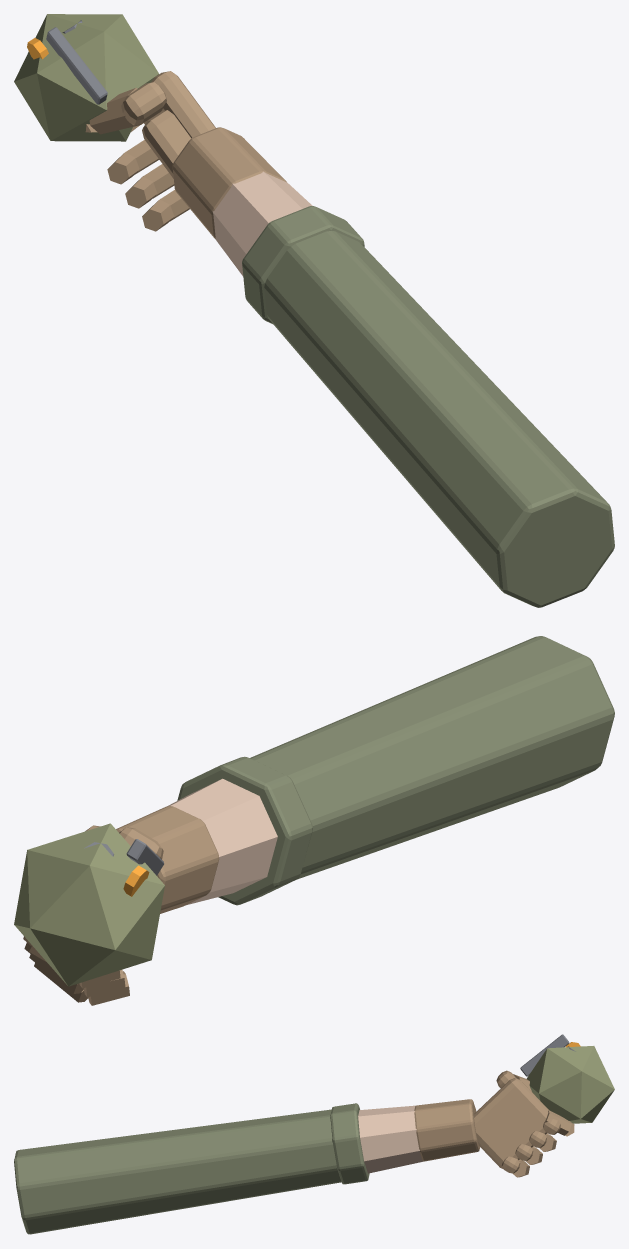
The model's file is viewmodel_grenade.glb.
3 views of the same model, one above another, from view 1: azimuth 30°, elevation 25°; view 2: azimuth 150°, elevation 25°; view 3: azimuth 270°, elevation 25° (orthographic). The views are drawn at different scales.
Visible parts, largest first — view 1: sleeve.004, frag, cuff.004, forearm.004, sleeve_hem.004, hand_back.004, hand_heel.004, spoon, web.004, thumb_base.004; view 2: sleeve.004, frag, forearm.004, sleeve_hem.004, cuff.004, spoon, web.004; view 3: sleeve.004, frag, hand_back.004, forearm.004, cuff.004, sleeve_hem.004, spoon, index_finger.004.
Boxes of the visible parts, left/top/right/bottom form: sleeve.004: left=264, top=231, right=614, bottom=607; frag: left=14, top=14, right=158, bottom=141; cuff.004: left=172, top=127, right=286, bottom=238; forearm.004: left=212, top=171, right=312, bottom=276; sleeve_hem.004: left=242, top=206, right=364, bottom=323; hand_back.004: left=144, top=71, right=215, bottom=138; hand_heel.004: left=142, top=110, right=191, bottom=178; spoon: left=46, top=27, right=107, bottom=104; web.004: left=121, top=82, right=166, bottom=125; thumb_base.004: left=89, top=87, right=143, bottom=134; sleeve.004: left=250, top=636, right=614, bottom=879; frag: left=14, top=823, right=164, bottom=986; forearm.004: left=167, top=778, right=277, bottom=905; sleeve_hem.004: left=177, top=756, right=312, bottom=905; cuff.004: left=116, top=806, right=219, bottom=913; spoon: left=126, top=839, right=164, bottom=875; web.004: left=119, top=827, right=163, bottom=859; sleeve.004: left=14, top=1109, right=341, bottom=1234; frag: left=526, top=1046, right=614, bottom=1123; hand_back.004: left=474, top=1078, right=548, bottom=1169; forearm.004: left=358, top=1105, right=423, bottom=1173; cuff.004: left=414, top=1099, right=479, bottom=1161; sleeve_hem.004: left=330, top=1103, right=369, bottom=1184; spoon: left=520, top=1034, right=569, bottom=1076; index_finger.004: left=544, top=1110, right=571, bottom=1135.
Bounding box in the file's own units: 0.0364 × 0.0631 × 0.1967.
